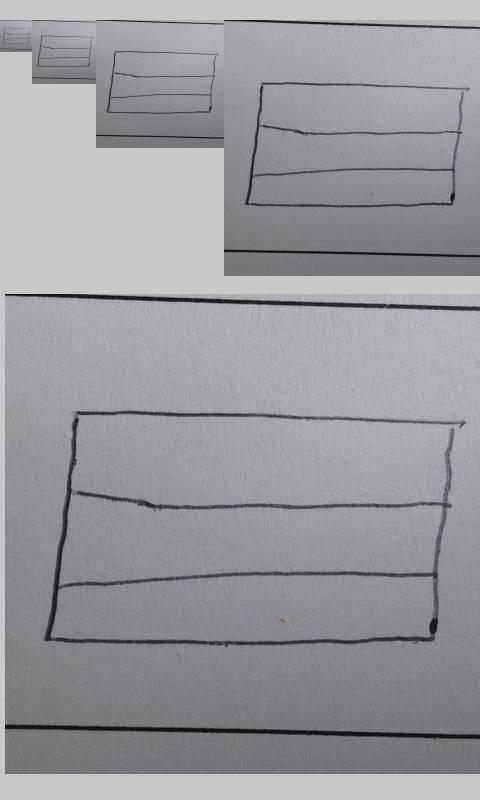list_view: (44, 403, 459, 651), (244, 79, 467, 212), (106, 50, 218, 115), (37, 35, 93, 68), (2, 27, 31, 45)
